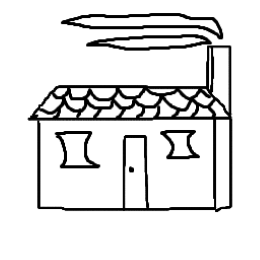door: (114, 129, 153, 215)
open_window: (52, 125, 104, 178), (157, 126, 205, 164)
roof: (25, 73, 236, 125)
smoking_chimney: (61, 6, 237, 112)
wall: (30, 112, 231, 213)
